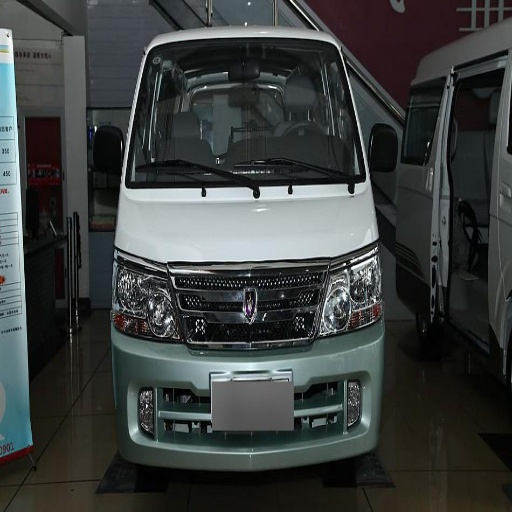front_bumper: (112, 255, 382, 470)
front_right_light: (113, 253, 179, 341)
hood: (118, 184, 375, 263)
left_mirror: (371, 125, 399, 171)
